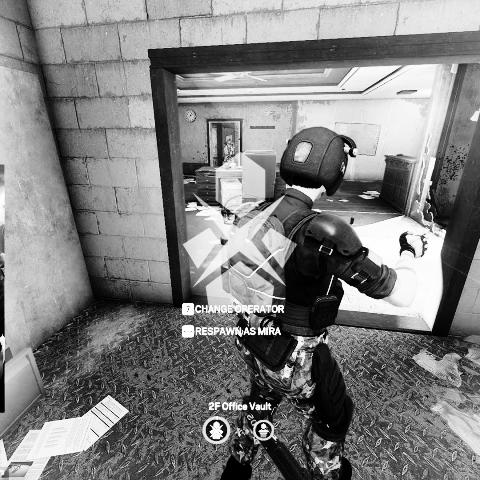Character: (218, 125, 430, 480), (223, 138, 235, 166)
Head: (278, 126, 356, 202), (227, 139, 231, 143)
